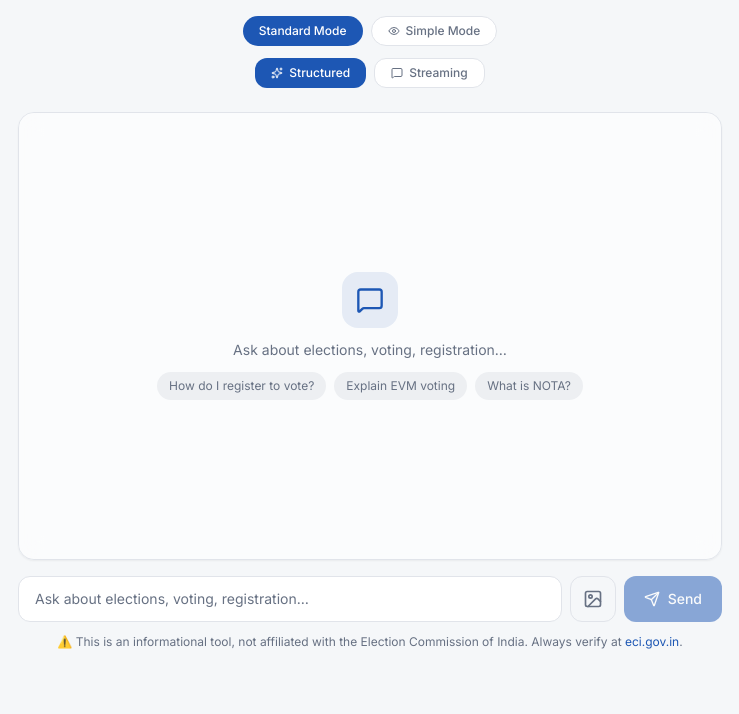
Scenario: ChatBox integration › answers FAQ questions locally without AI call
The width and height of the screenshot is (739, 714).
(page scrolled)
Type "How does voter registration work?" into the field with placeholder "Ask about elections, voting, registration…" at [290, 599], box x1=18 y1=576 x2=562 y2=622
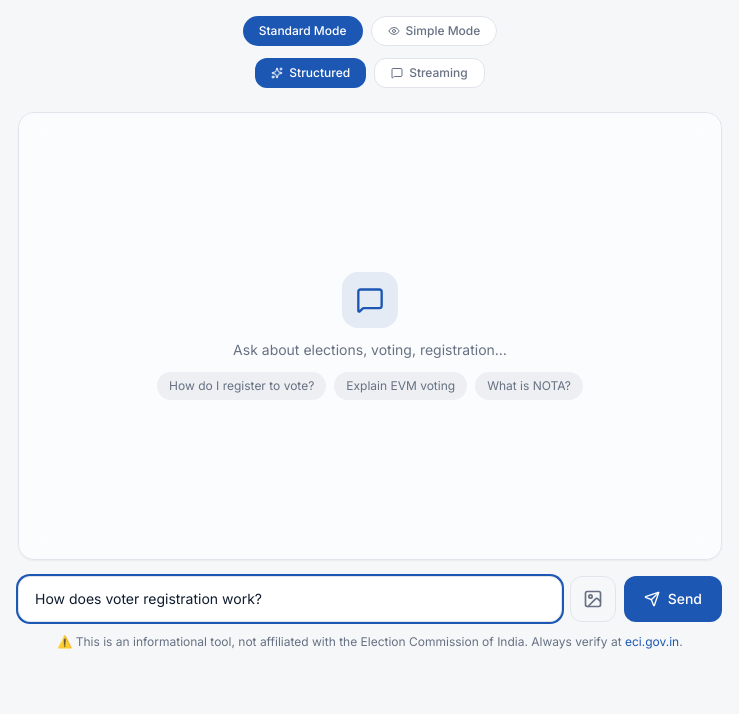
Click the button "Send" at [673, 599], box x1=624 y1=576 x2=722 y2=622
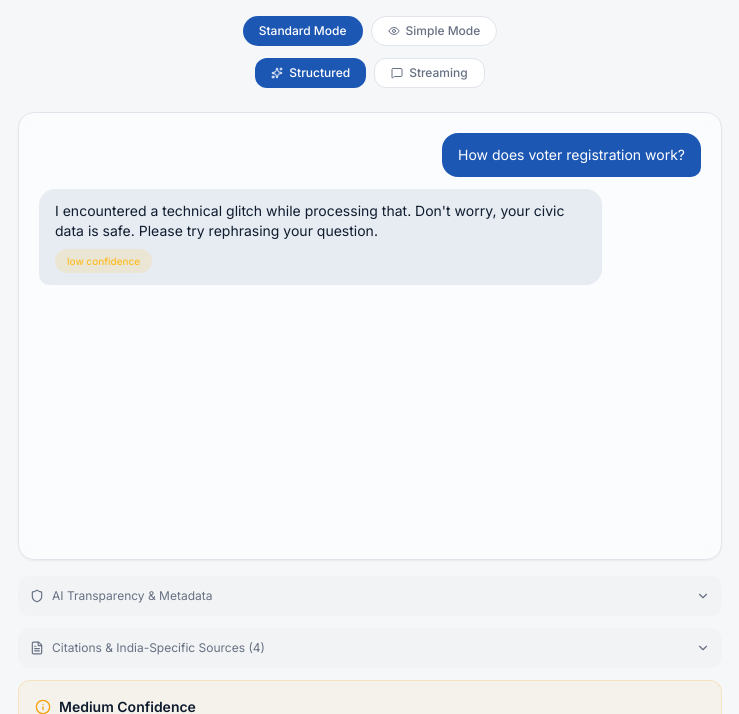
expect the text "How does voter registration work?" is shown: met, box x1=442 y1=133 x2=701 y2=177
